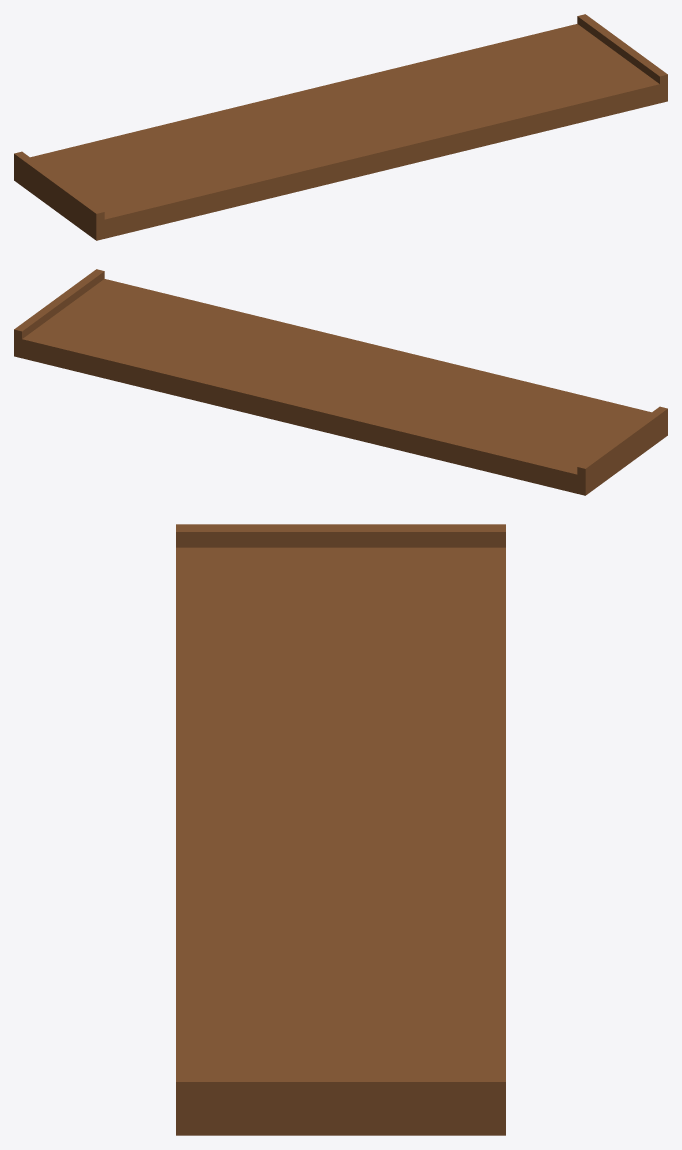
Rendered from shelf.glb.
3 views of the same model, one above another, from view 1: azimuth 30°, elevation 25°; view 2: azimuth 150°, elevation 25°; view 3: azimuth 270°, elevation 25° (orthographic). The views are drawn at different scales.
Visible parts, largest first — view 1: shelf; view 2: shelf; view 3: shelf.
Part boxes in pixels (x1=…): shelf: x1=14, y1=14, x2=667, y2=240; shelf: x1=14, y1=269, x2=667, y2=495; shelf: x1=176, y1=524, x2=505, y2=1135.
Size of the model in its own units: 1.4 by 0.063 by 0.35.
